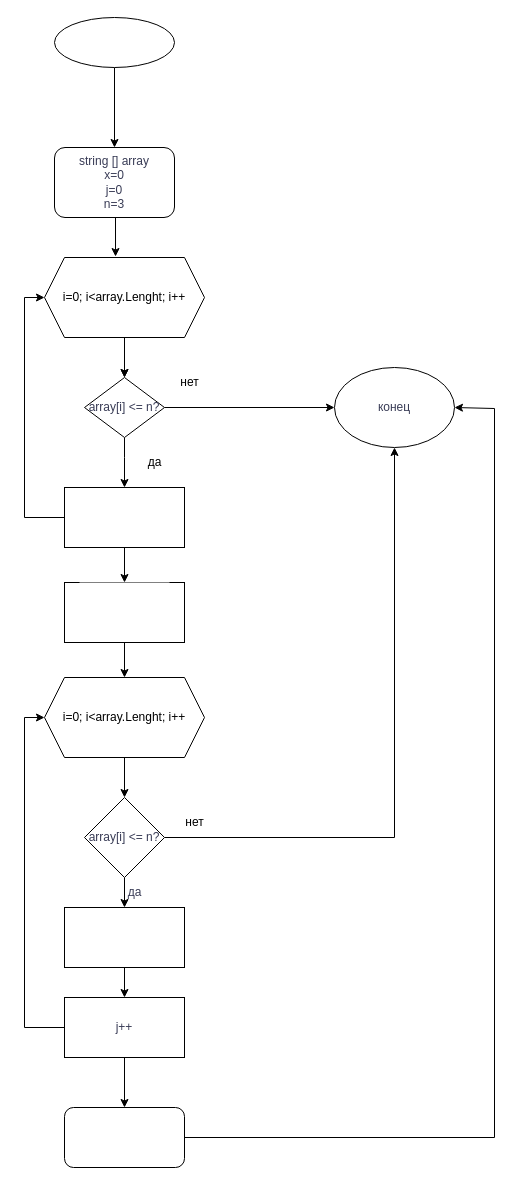
Some shapes in this 520 by 1185 pixel diagram are drawn without their labels. The shapes that lost their labels are listed below. From the top down, each one's box as (x1, y1, x2, y2) in pixels, then its label:
(54, 16, 174, 68): начало
(64, 486, 184, 548): x++
(79, 582, 169, 632): string [] slovo = new string [x]
(64, 906, 184, 968): slovo[j]=array[i]
(64, 1106, 184, 1168): вывод slovo
